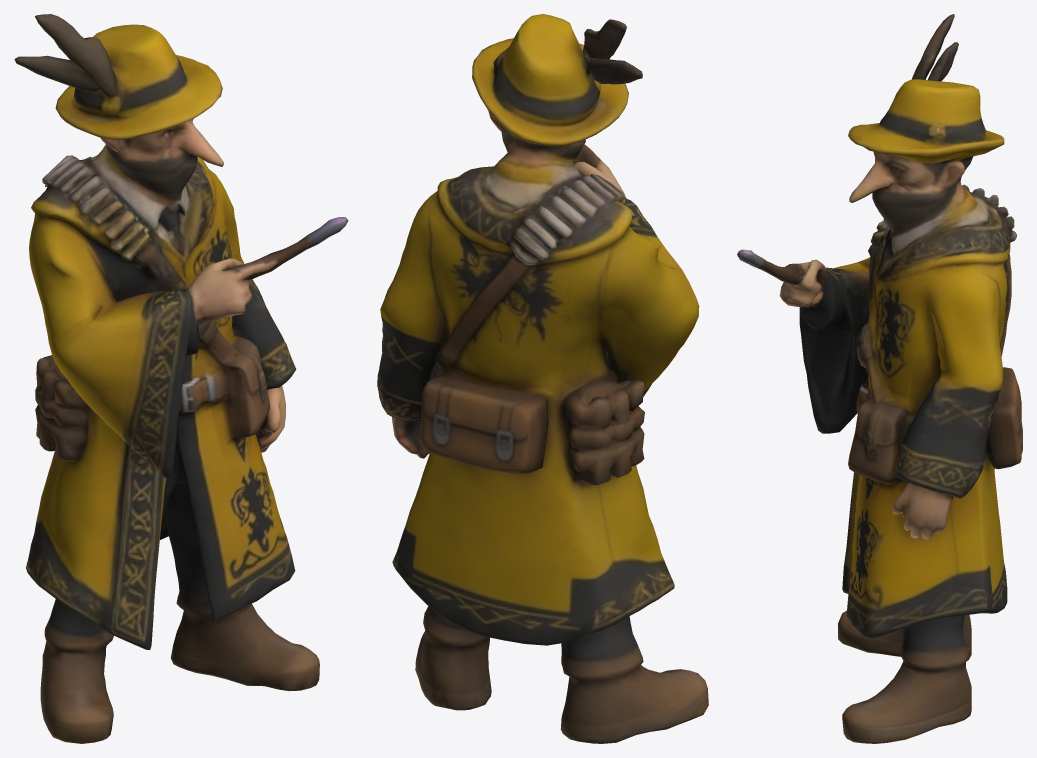
Rendered from npc_skills.glb.
3 renders of one model, left to right at view 1: azimuth 30°, elevation 25°; view 2: azimuth 150°, elevation 25°; view 3: azimuth 270°, elevation 25°, orthographic. The views are drawn at different scales.
Parts seen in each view (by area): view 1: Mesh_0; view 2: Mesh_0; view 3: Mesh_0.
Part boxes in pixels (<box>): Mesh_0: <box>14,14,348,743</box>; Mesh_0: <box>377,14,708,743</box>; Mesh_0: <box>737,14,1022,743</box>.
Size of the model in its own units: 0.8214 by 2 by 0.8255.
Materials: 1 (1 with a texture image).
